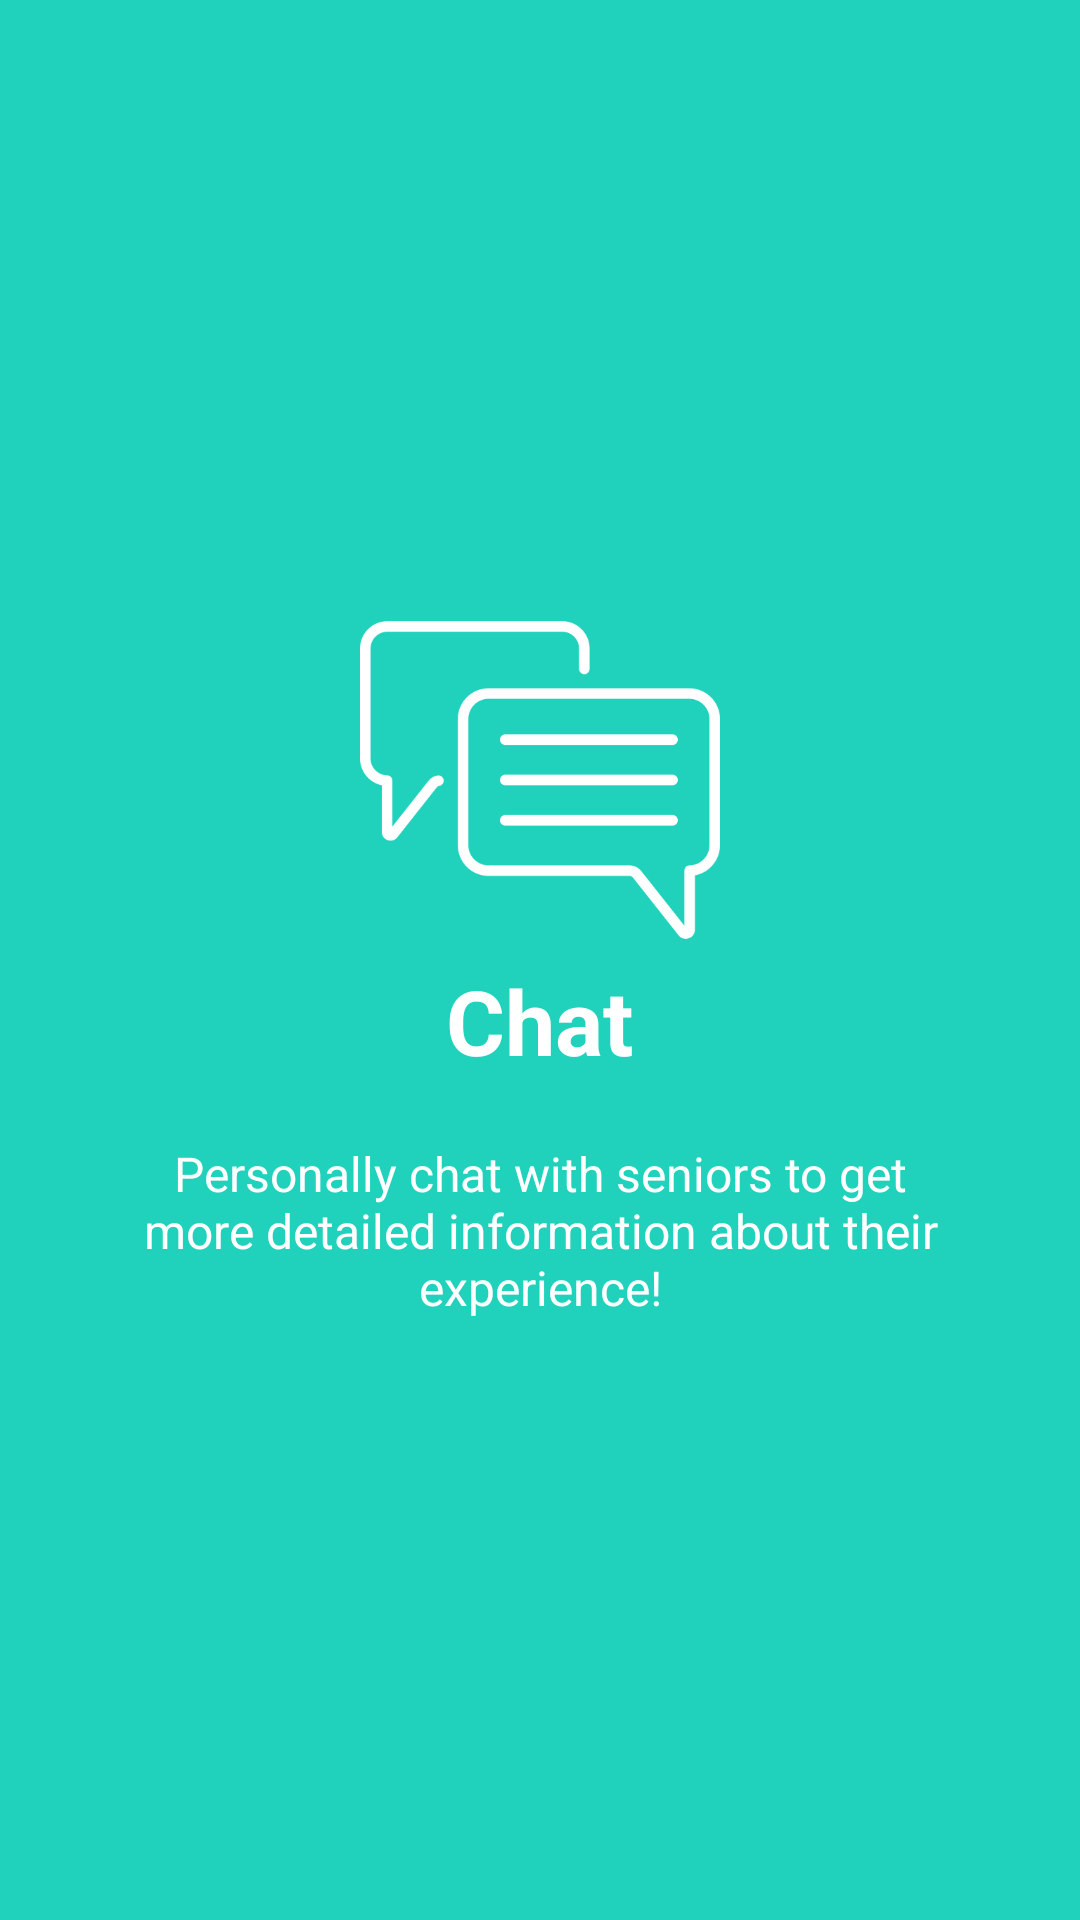

Named icons in this screenshot (1080×1920) and their bounding boxes, (x1, y1, x2, y2):
message: (360, 621, 720, 939)
